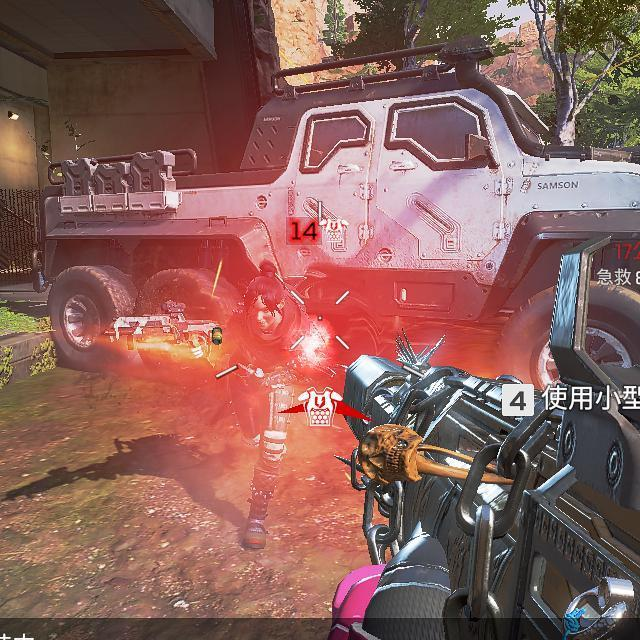avatar: (227, 261, 307, 551)
object: (284, 314, 336, 370)
